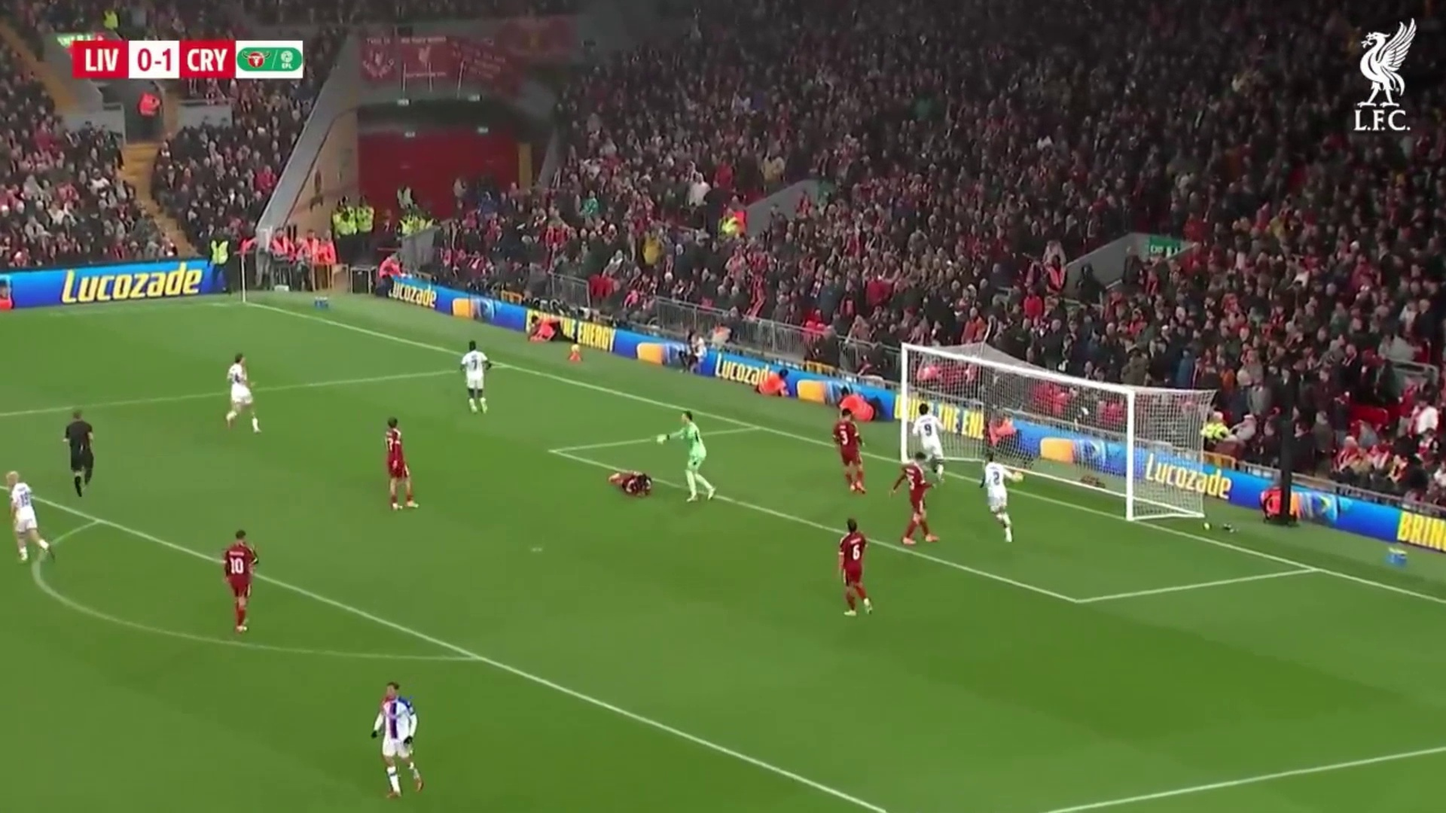player: (371, 680, 424, 800), (222, 528, 257, 636), (9, 475, 51, 565), (896, 459, 938, 546), (676, 410, 715, 502), (832, 397, 868, 496), (837, 519, 871, 618), (384, 419, 418, 513), (981, 460, 1016, 546), (222, 355, 259, 432), (64, 410, 96, 499), (914, 403, 947, 484), (460, 339, 490, 415)
